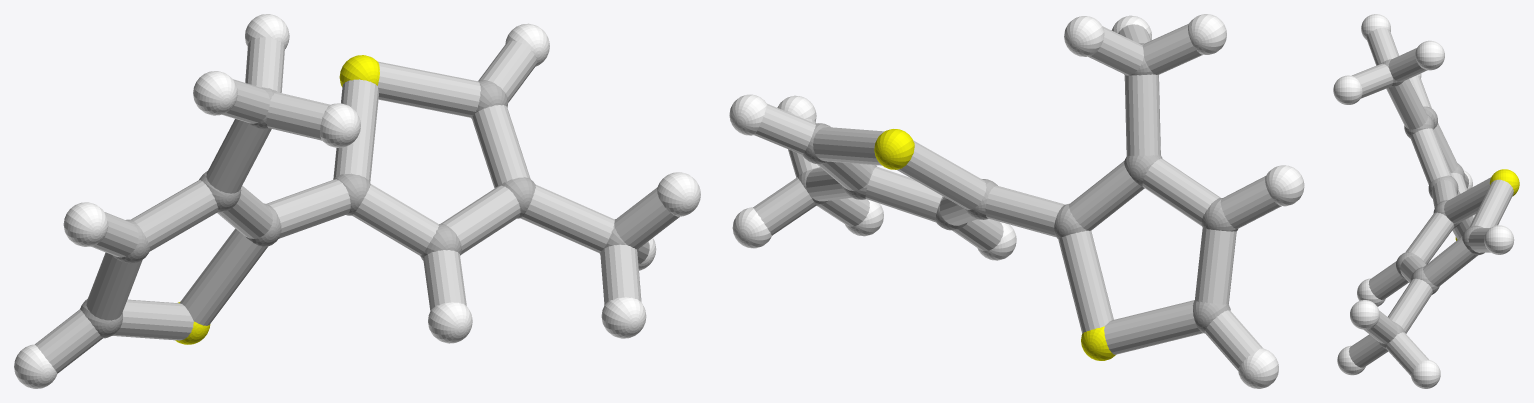
The model's file is color.glb.
3 renders of one model, left to right at view 1: azimuth 30°, elevation 25°; view 2: azimuth 150°, elevation 25°; view 3: azimuth 270°, elevation 25°, orthographic. The views are drawn at different scales.
Visible parts, largest first — view 1: grp7965, grp3621, grp1, grp7241; view 2: grp7965, grp3621, grp1, grp7241; view 3: grp7965, grp3621, grp1, grp7241.
Boxes of the visible parts, bbox=[...] form: grp7965: bbox=[35, 37, 679, 373]; grp3621: bbox=[14, 14, 700, 388]; grp1: bbox=[80, 80, 638, 338]; grp7241: bbox=[175, 55, 379, 344]; grp7965: bbox=[753, 23, 1281, 370]; grp3621: bbox=[729, 14, 1304, 388]; grp1: bbox=[798, 43, 1237, 333]; grp7241: bbox=[874, 129, 1115, 360]; grp7965: bbox=[1349, 27, 1513, 375]; grp3621: bbox=[1333, 14, 1514, 388]; grp1: bbox=[1378, 59, 1484, 348]; grp7241: bbox=[1455, 169, 1519, 240].
Bounding box in the file's own units: 9.46 × 5.18 × 3.73.
